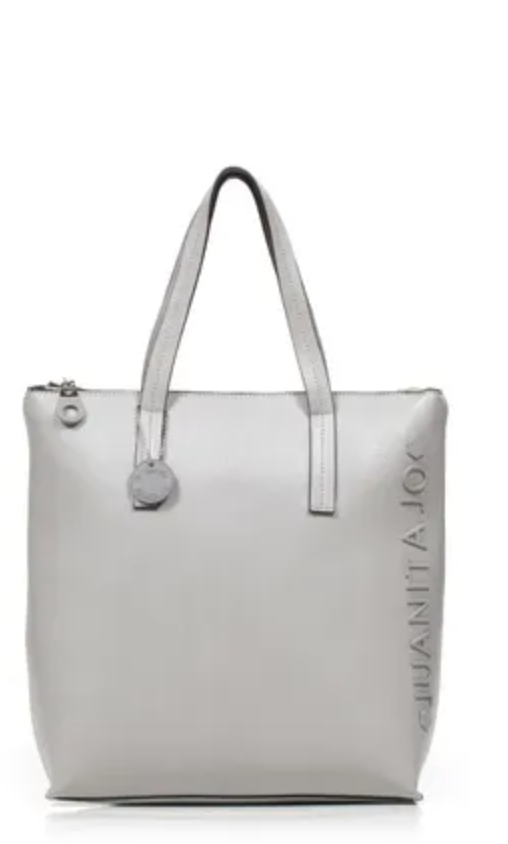cartera: (8, 139, 471, 824)
tela: (74, 535, 328, 715)
